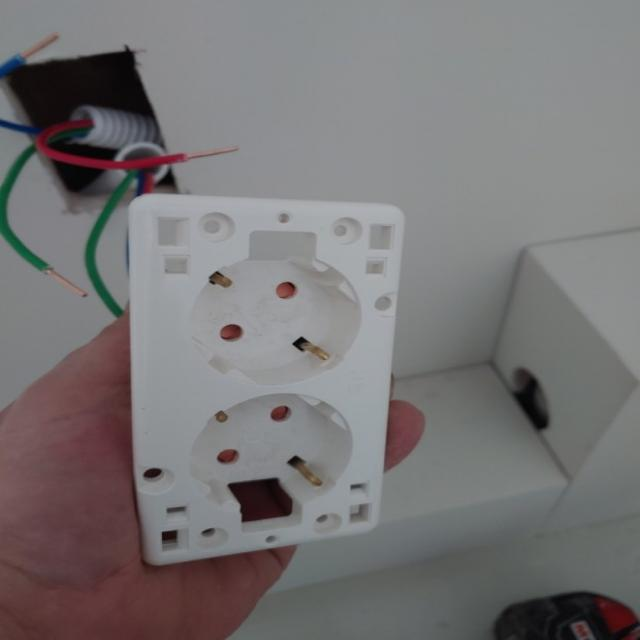typeb: (108, 187, 402, 556)
